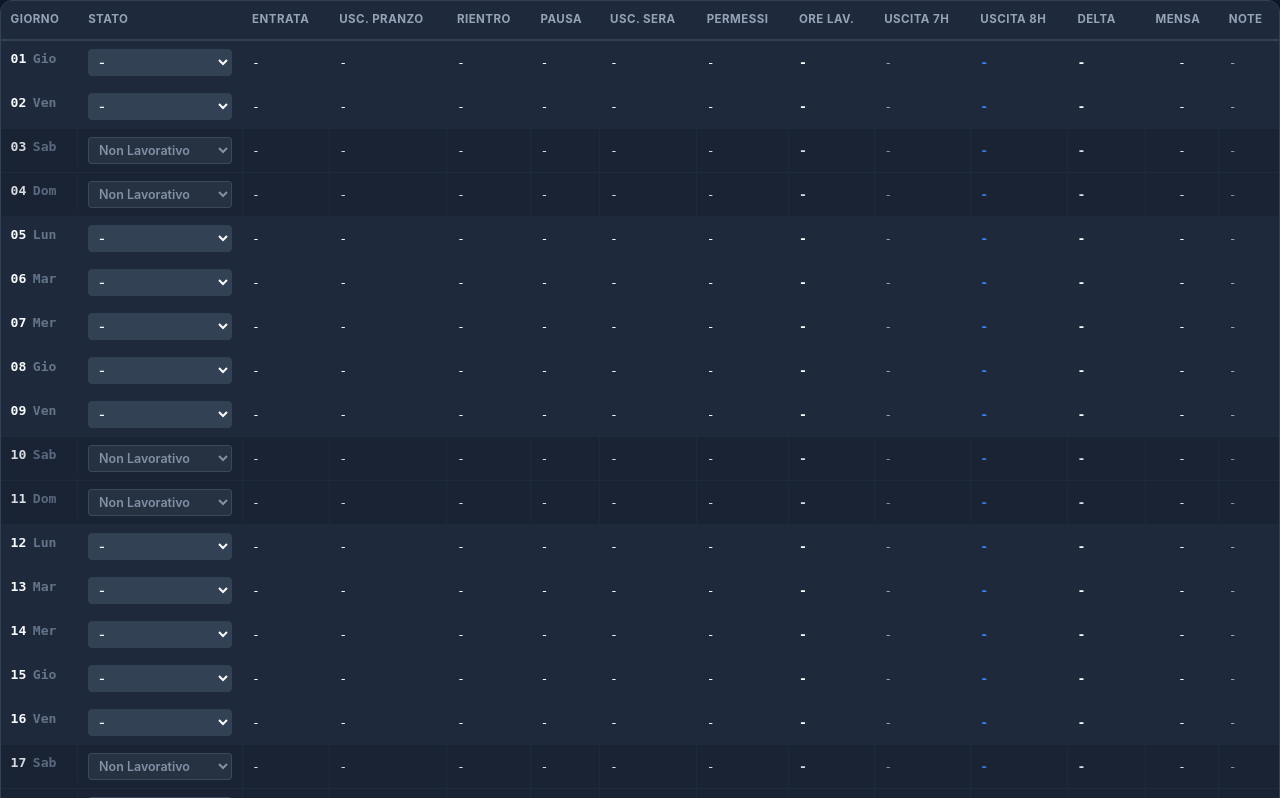
TimbratureTable Feature › marks selected row with data-selected="true" and handles row click
Click the row with test id "row-2026-10-05".
click(640, 238)  # box x1=1 y1=216 x2=1279 y2=260
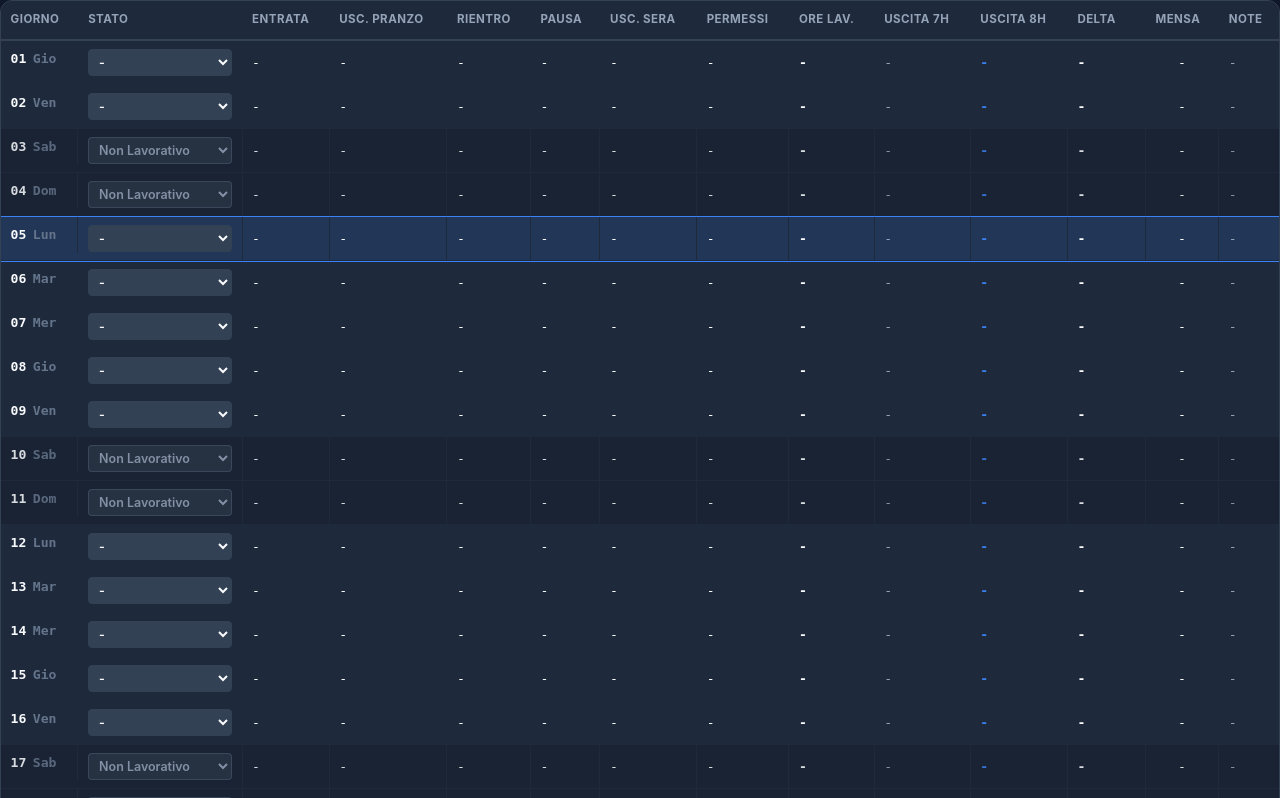
Expected: the row with test id "row-2026-10-05" has attribute data-selected="true", x1=1 y1=216 x2=1279 y2=260
